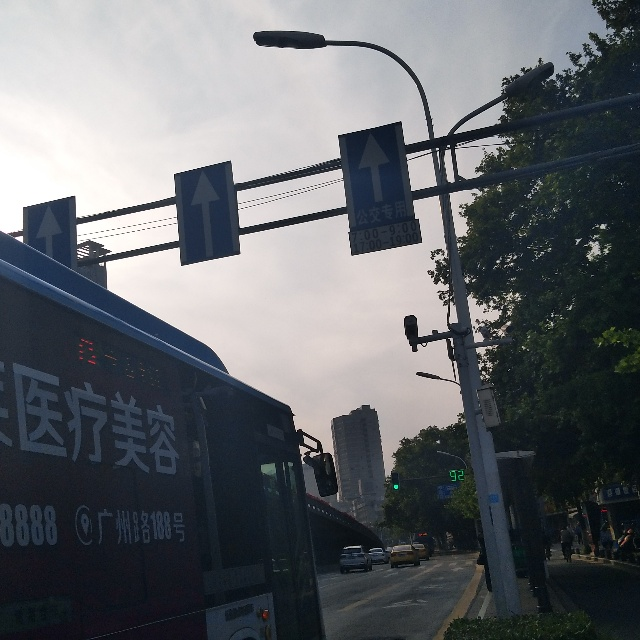straight: (338, 122, 416, 228), (173, 162, 241, 266), (21, 197, 78, 284)
